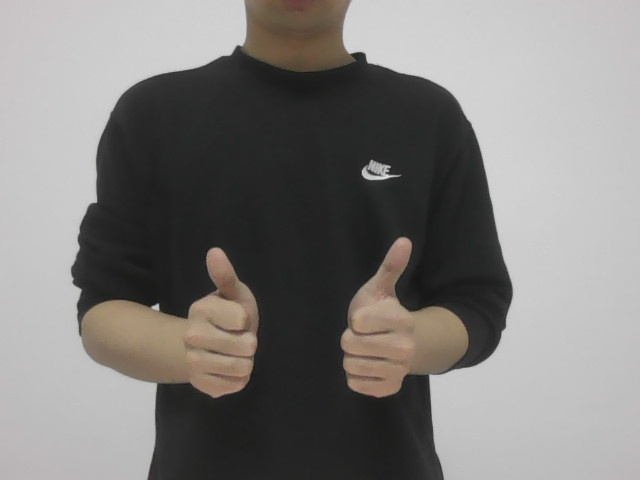friend: (170, 228, 415, 405)
